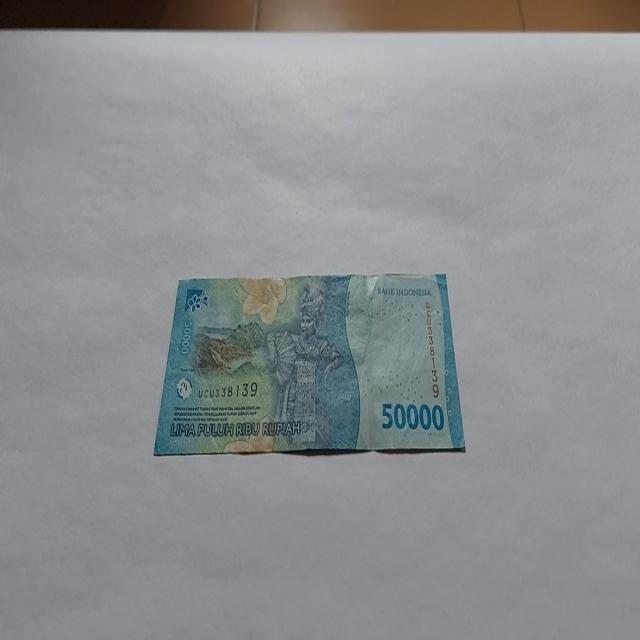lima puluh ribu rupiah: (152, 270, 466, 457)
